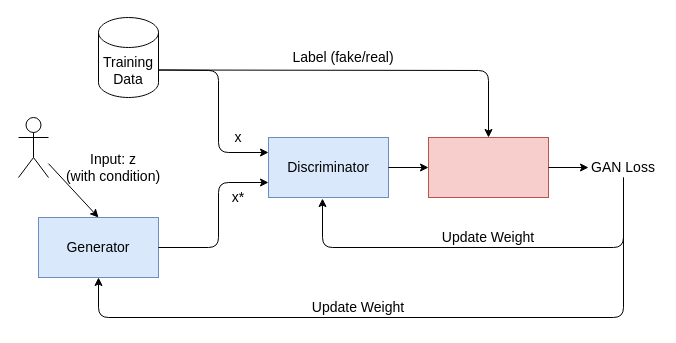
Image size: 676x343. Some labels were removed from this diagram. Here are the shapes that lost their labels. From the top down, the box of each, then its label:
(18, 116, 48, 178): Actor
(428, 136, 548, 198): Loss Function
